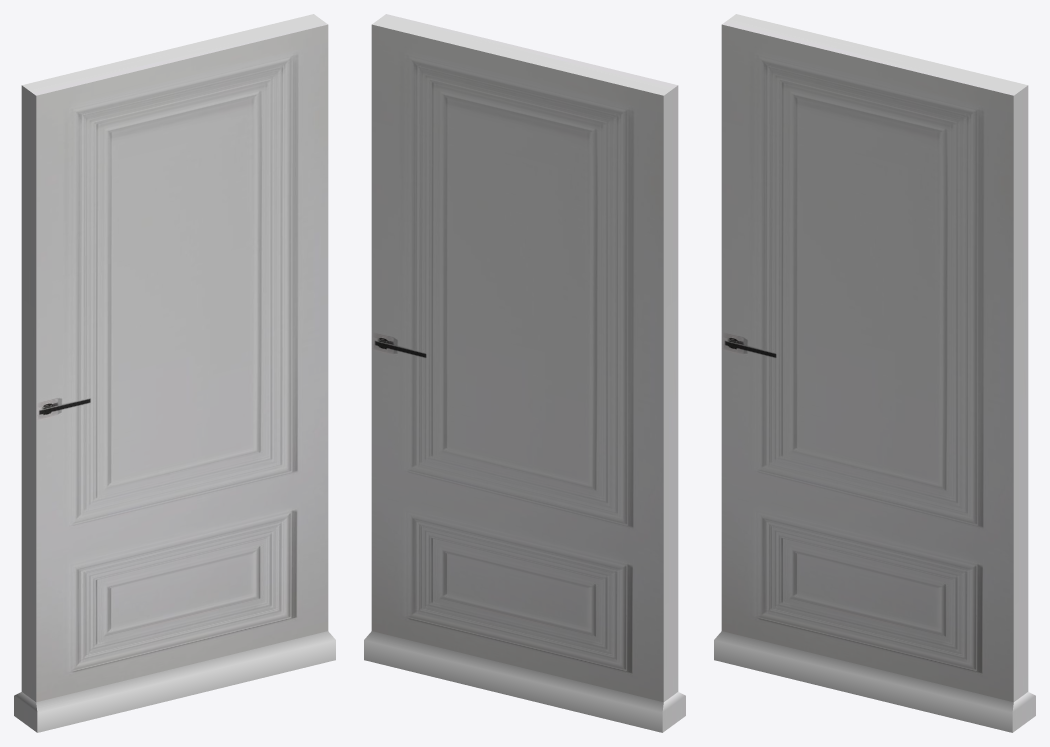
File: Door.fbx
The picture shows the model from 3 angles, left to right: view 1: azimuth 30°, elevation 25°; view 2: azimuth 150°, elevation 25°; view 3: azimuth 330°, elevation 25°; orthographic projection.
Parts seen in each view (by area): view 1: door2; view 2: door2; view 3: door2.
Boxes of the visible parts, <box> form: door2: <box>14,14,335,732</box>; door2: <box>364,14,685,732</box>; door2: <box>714,14,1035,732</box>.
Size of the model in its own units: 149 by 301 by 20.1.
